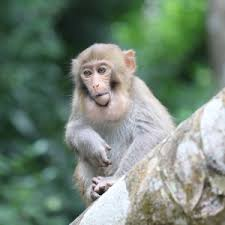monkey: (47, 24, 186, 196)
